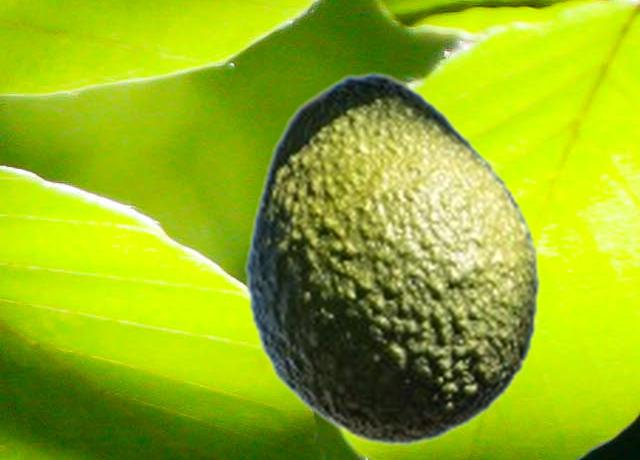avocado: (242, 71, 540, 446)
